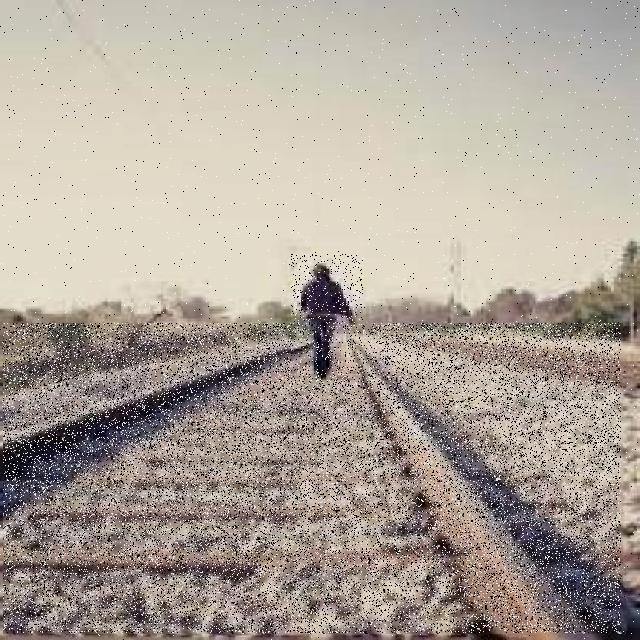danger: (291, 254, 363, 380)
rail: (3, 323, 621, 633)
